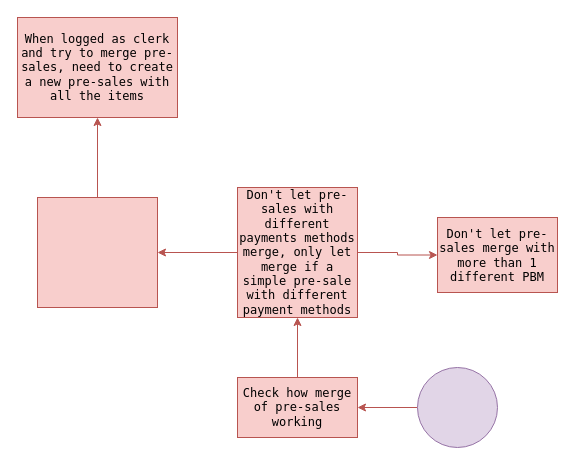
This 575x465 diagram has some shape labels left out. The box of each missing label's shape, as (x1, y1, x2, y2) in pixels:
Only merge delivery pre-sales if they have the same payment method: (36, 196, 158, 308)
RFP-1373: (416, 366, 498, 448)
